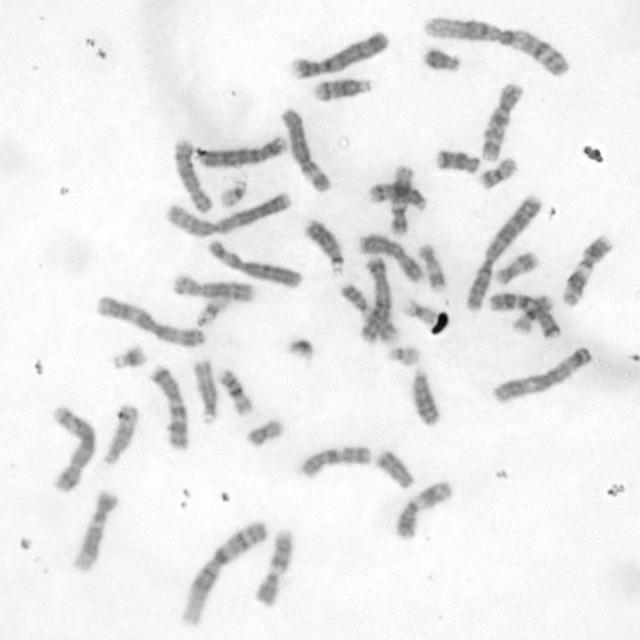A1: (178, 516, 266, 631), (424, 15, 572, 80)
A2: (466, 194, 546, 313), (166, 192, 292, 240)
A3: (489, 345, 596, 407), (94, 294, 208, 350)
B4: (291, 31, 393, 81), (194, 134, 290, 168)
B5: (47, 406, 98, 494), (353, 255, 392, 345)
C10: (479, 82, 526, 162), (298, 443, 372, 480)
C11: (394, 477, 455, 543), (562, 234, 615, 309)
C12: (74, 489, 120, 572), (388, 162, 414, 236)
C6: (206, 239, 303, 290), (281, 106, 332, 193)
C7: (147, 364, 192, 451), (490, 291, 564, 341)
C8: (170, 136, 214, 215), (171, 272, 260, 304)
C9: (340, 282, 401, 345), (252, 526, 297, 607)
D13: (301, 217, 345, 276), (412, 364, 442, 428)
D14: (368, 180, 428, 213), (312, 77, 375, 103)
D15: (100, 402, 142, 468), (190, 360, 217, 424)
E16: (509, 294, 554, 337), (218, 366, 254, 418)
E17: (494, 248, 541, 286), (418, 241, 448, 293)
E18: (374, 448, 414, 491), (434, 148, 481, 176)
F19: (194, 292, 232, 329), (396, 297, 437, 327)
F20: (476, 157, 521, 190), (244, 418, 288, 449)
G21: (281, 335, 317, 372), (110, 342, 150, 372)
G22: (218, 177, 248, 210), (386, 342, 422, 367)
X: (356, 232, 425, 284)
Y: (420, 48, 465, 72)
